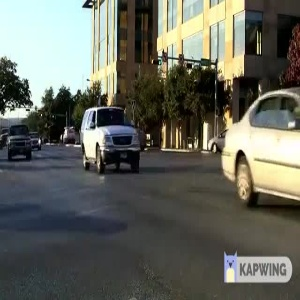car: (209, 83, 300, 210)
suv: (78, 102, 145, 183)
truck: (3, 119, 35, 167)
